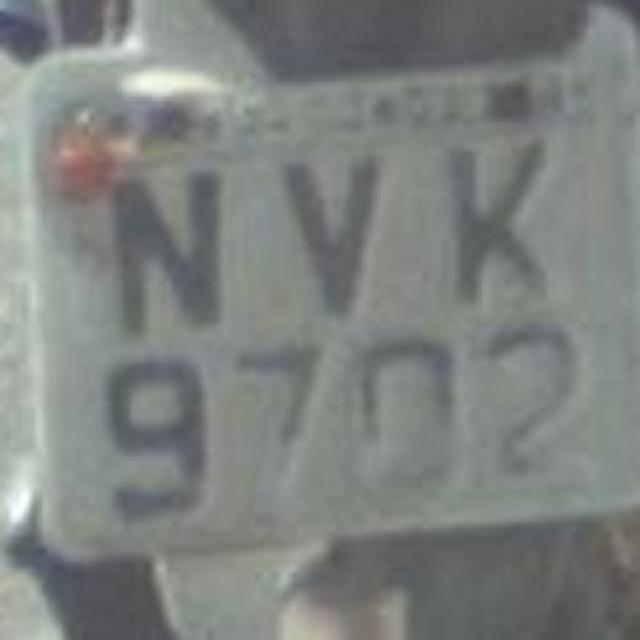0: (308, 308, 480, 528)
2: (445, 320, 600, 515)
7: (188, 312, 344, 520)
9: (48, 312, 240, 520)
K: (429, 140, 576, 328)
N: (56, 140, 264, 332)
V: (268, 124, 408, 331)
